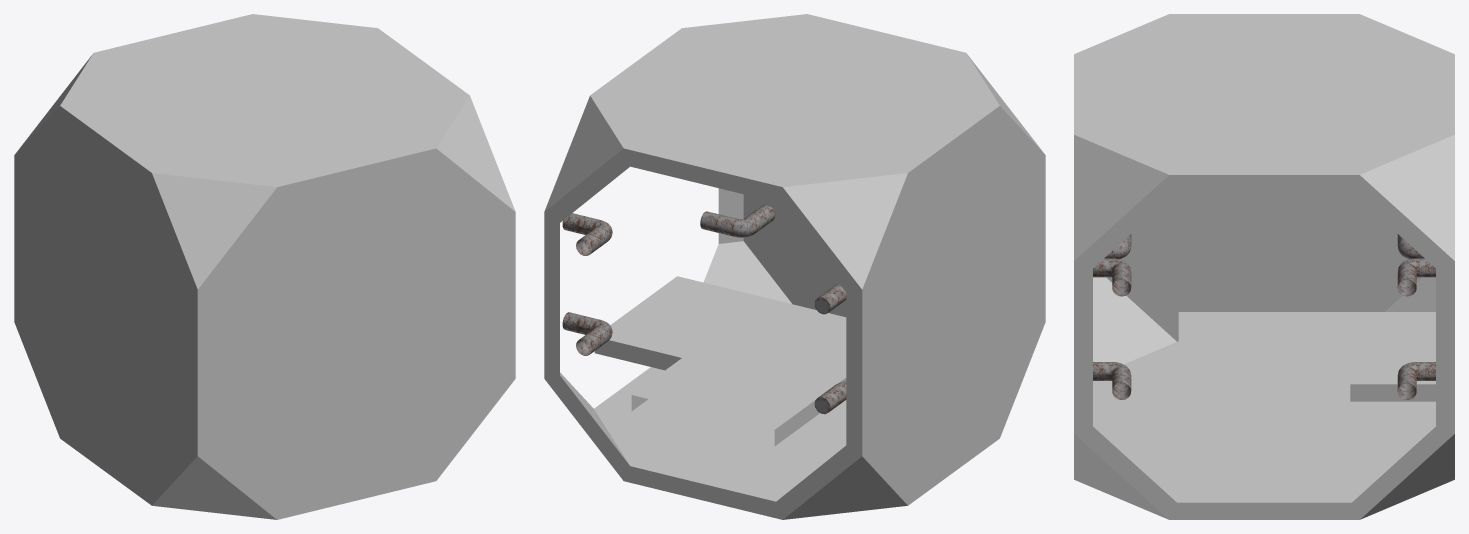
File: LabTunnel_LTurn.fbx
3 views of the same model, side by side, from view 1: azimuth 30°, elevation 25°; view 2: azimuth 150°, elevation 25°; view 3: azimuth 270°, elevation 25° (orthographic). The views are drawn at different scales.
Visible parts, largest first — view 1: Corner.016, Ceiling.005, Corner.015, Corner.027, Corner.024, Corner.013, Floor.001, Corner.003, Corner.008; view 2: Ceiling.005, Corner.015, Platform_X.001, Floor.001, Corner.008, Corner.024, Corner.002, Corner.016, Corner.003, Pipe_Curved.009, Pipe_Curved.011, Corner.027 (+1 smaller); view 3: Ceiling.005, Corner.015, Platform_X.001, Floor.001, Corner.002, Corner.003, Corner.024, Corner.013, Pipe_Curved.009, Pipe_Curved.011, Corner.008.
Boxes of the visible parts, bbox=[...] form: Corner.016: bbox=[213, 148, 515, 501]; Ceiling.005: bbox=[60, 14, 469, 201]; Corner.015: bbox=[14, 113, 197, 505]; Corner.027: bbox=[213, 154, 515, 499]; Corner.024: bbox=[14, 116, 197, 501]; Corner.013: bbox=[152, 173, 283, 519]; Floor.001: bbox=[60, 425, 435, 519]; Corner.003: bbox=[436, 96, 515, 211]; Corner.008: bbox=[15, 54, 92, 153]; Ceiling.005: bbox=[590, 14, 999, 201]; Corner.015: bbox=[862, 106, 1045, 505]; Platform_X.001: bbox=[594, 276, 846, 446]; Floor.001: bbox=[594, 367, 999, 519]; Corner.008: bbox=[776, 173, 911, 519]; Corner.024: bbox=[862, 112, 1045, 502]; Corner.002: bbox=[544, 96, 629, 480]; Corner.016: bbox=[743, 194, 846, 317]; Corner.003: bbox=[703, 188, 791, 303]; Pipe_Curved.009: bbox=[562, 213, 612, 355]; Pipe_Curved.011: bbox=[700, 204, 775, 237]; Corner.027: bbox=[743, 194, 846, 316]; Ceiling.005: bbox=[1074, 14, 1454, 192]; Corner.015: bbox=[1106, 192, 1422, 341]; Platform_X.001: bbox=[1178, 312, 1435, 445]; Floor.001: bbox=[1093, 341, 1435, 519]; Corner.002: bbox=[1352, 135, 1454, 519]; Corner.003: bbox=[1074, 135, 1176, 519]; Corner.024: bbox=[1109, 192, 1418, 341]; Corner.013: bbox=[1093, 277, 1176, 364]; Pipe_Curved.009: bbox=[1397, 258, 1435, 399]; Pipe_Curved.011: bbox=[1093, 258, 1131, 399]; Corner.008: bbox=[1385, 277, 1435, 311].
Size of the model in its own units: 500 by 500 by 500.
